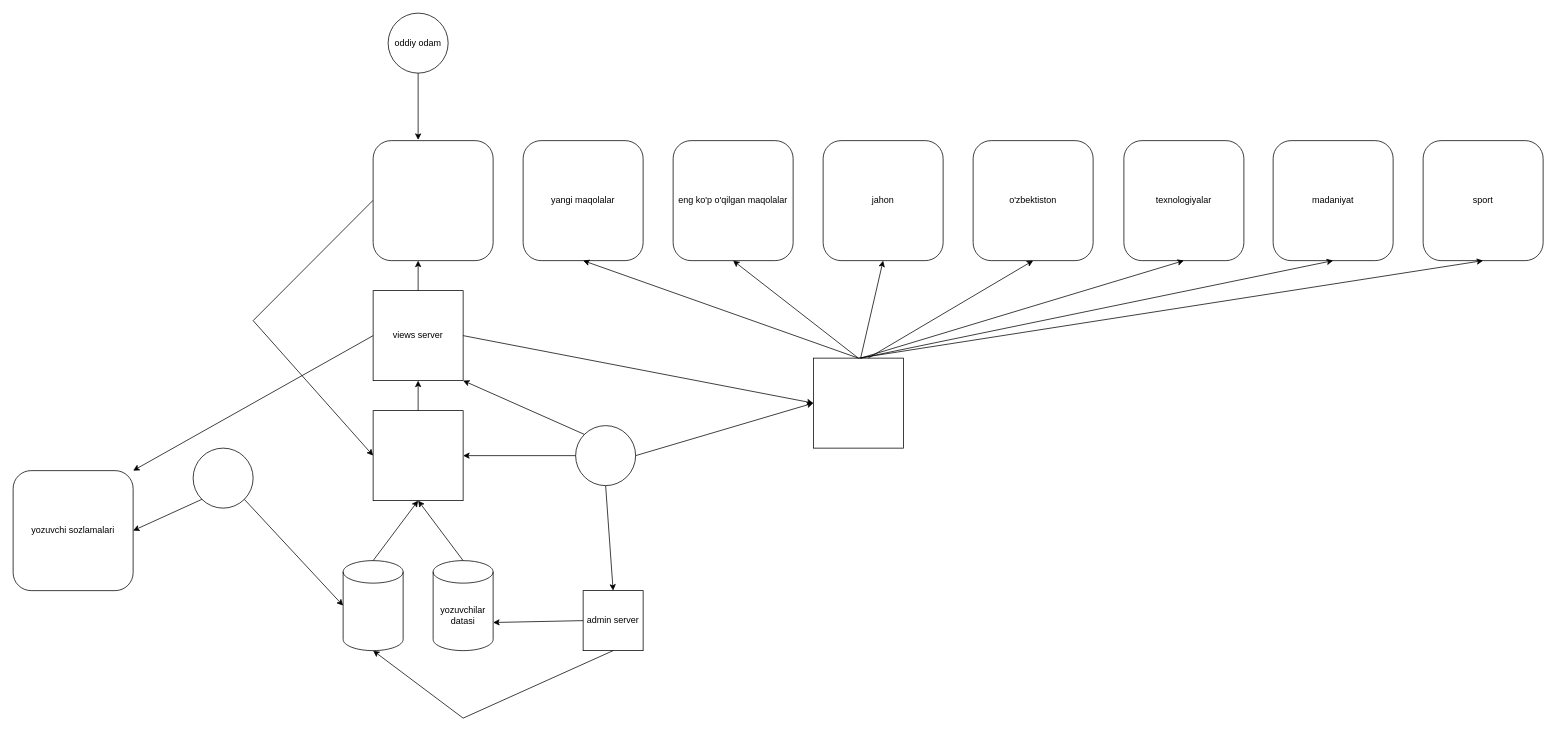
The diagram is 1556 pixels wide and 737 high, and some of its shapes have lost their labels. The box of each missing label's shape, as (x1, y1, x2, y2) in pixels:
admin: (575, 425, 636, 486)
malumotlar ustida ishlovchi server: (372, 410, 463, 501)
malumotlarni saralovchi srver: (813, 357, 903, 448)
maqolalar datasi: (342, 560, 403, 651)
site: (372, 140, 493, 261)
yozuvchi: (192, 447, 253, 508)
